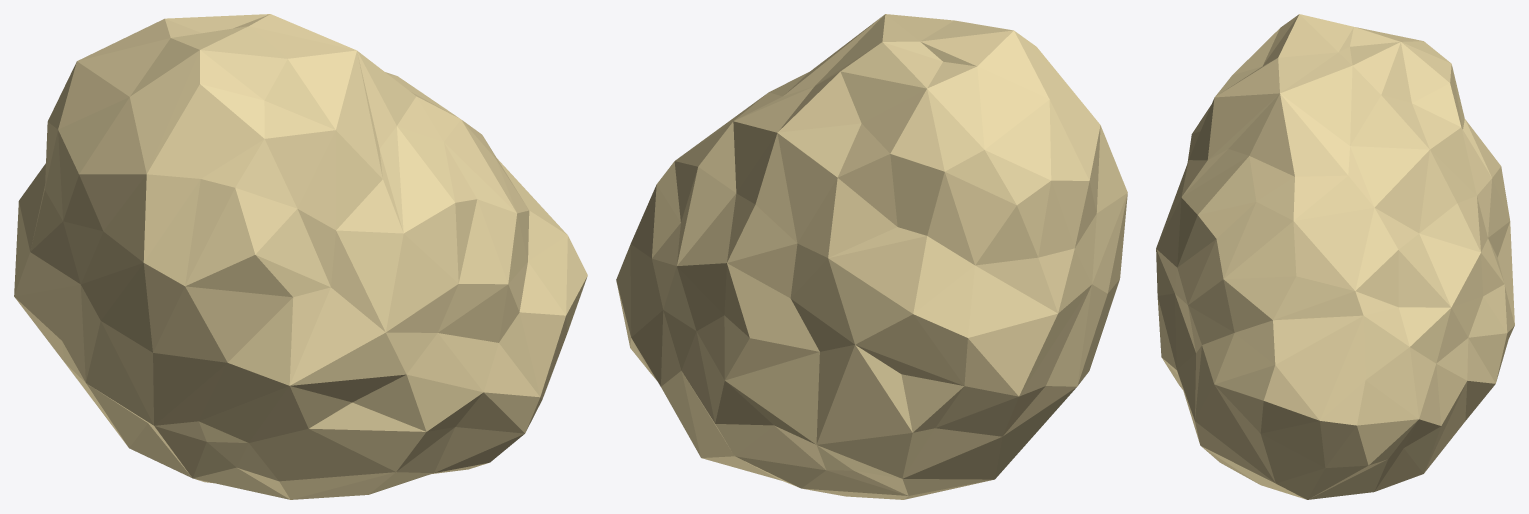
File: Asteroid (121).fbx
The picture shows the model from 3 angles, left to right: view 1: azimuth 30°, elevation 25°; view 2: azimuth 150°, elevation 25°; view 3: azimuth 270°, elevation 25°; orthographic projection. The views are drawn at different scales.
Visible parts, largest first — view 1: Asteroid173; view 2: Asteroid173; view 3: Asteroid173.
Boxes of the visible parts, x1=… form: Asteroid173: x1=14, y1=14, x2=587, y2=499; Asteroid173: x1=616, y1=14, x2=1127, y2=499; Asteroid173: x1=1156, y1=14, x2=1514, y2=499.
Bounding box in the file's own units: 471 × 445 × 367.
